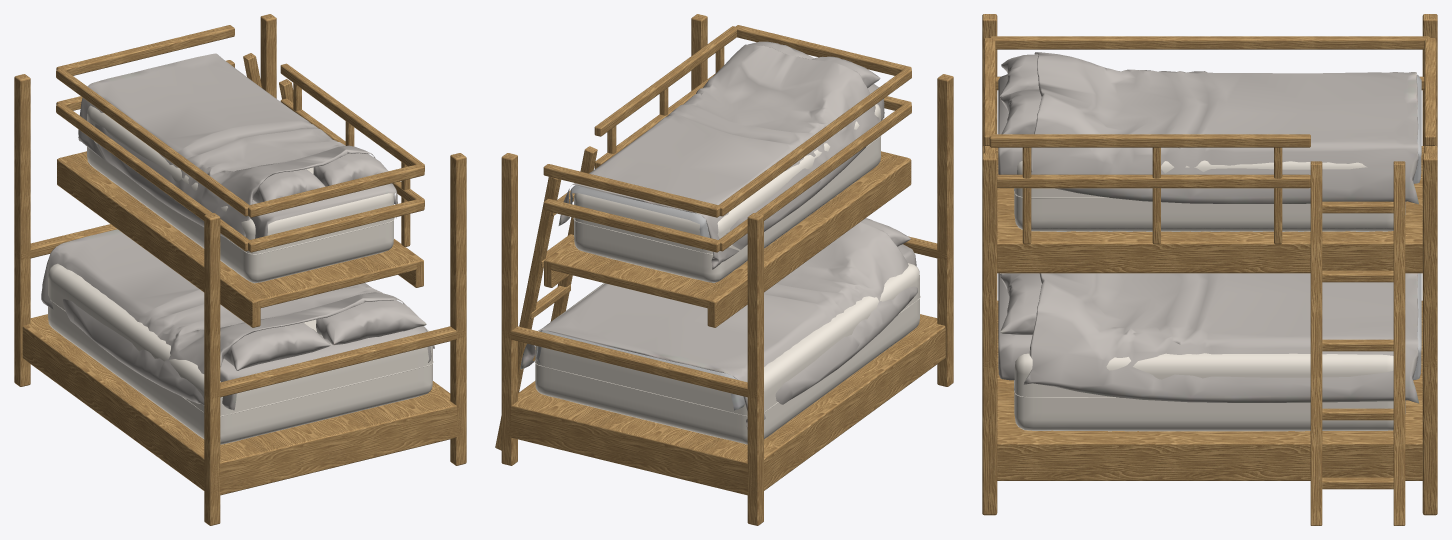
Rendered from residential-family-bunk.glb.
3 renders of one model, left to right at view 1: azimuth 30°, elevation 25°; view 2: azimuth 150°, elevation 25°; view 3: azimuth 270°, elevation 25°, orthographic. The views are drawn at different scales.
Parts seen in each view (by area): view 1: oak_surfaces, heritage_linen_surfaces, ivory_surfaces; view 2: oak_surfaces, heritage_linen_surfaces, ivory_surfaces; view 3: heritage_linen_surfaces, oak_surfaces, ivory_surfaces.
Part boxes in pixels (x1,y1,x2,y2): oak_surfaces: (14,14,466,525); heritage_linen_surfaces: (41,53,434,410); ivory_surfaces: (48,105,433,444); oak_surfaces: (495,14,953,525); heritage_linen_surfaces: (520,41,917,429); ivory_surfaces: (534,104,920,444); heritage_linen_surfaces: (998,52,1421,403); oak_surfaces: (982,14,1437,525); ivory_surfaces: (1014,160,1405,431).
Size of the model in its own units: 1.75 by 1.92 by 2.14.
3 materials, 2 textured.
